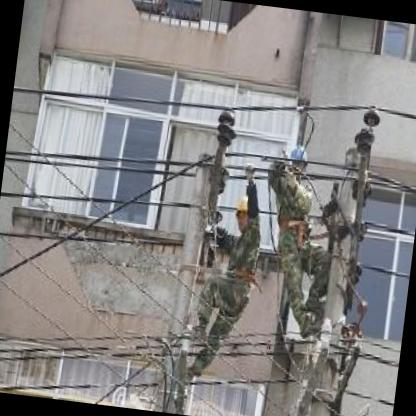helmet: (228, 187, 260, 234), (280, 140, 311, 188)
